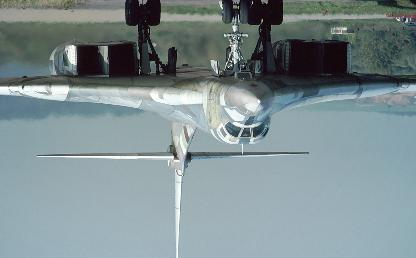Su34: (0, 1, 415, 258)
